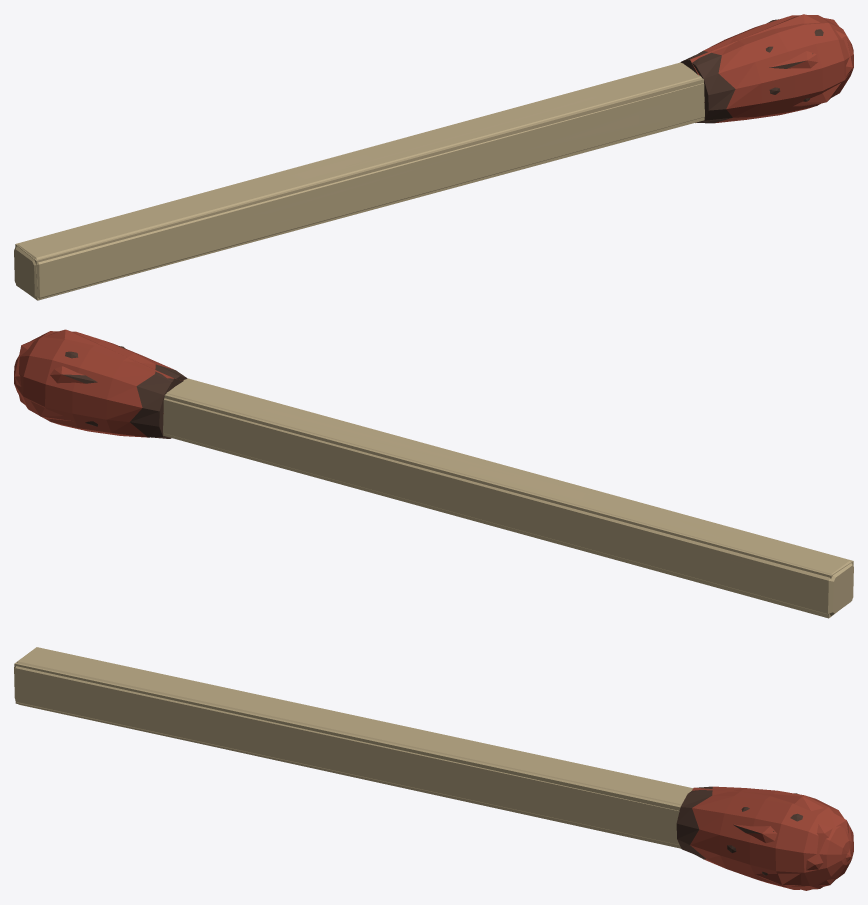
Rendered from pf_found_match.glb.
The picture shows the model from 3 angles, top to bottom: view 1: azimuth 30°, elevation 25°; view 2: azimuth 150°, elevation 25°; view 3: azimuth 330°, elevation 25°; orthographic projection.
Visible parts, largest first — view 1: body, body__far; view 2: body, body__far; view 3: body, body__far.
Part boxes in pixels (<box>): body: <box>14,15,853,300</box>; body__far: <box>15,14,852,300</box>; body: <box>14,331,853,615</box>; body__far: <box>14,329,853,618</box>; body: <box>14,648,853,889</box>; body__far: <box>14,647,853,890</box>.
Bounding box in the file's own units: 1 × 0.1099 × 0.0985.
